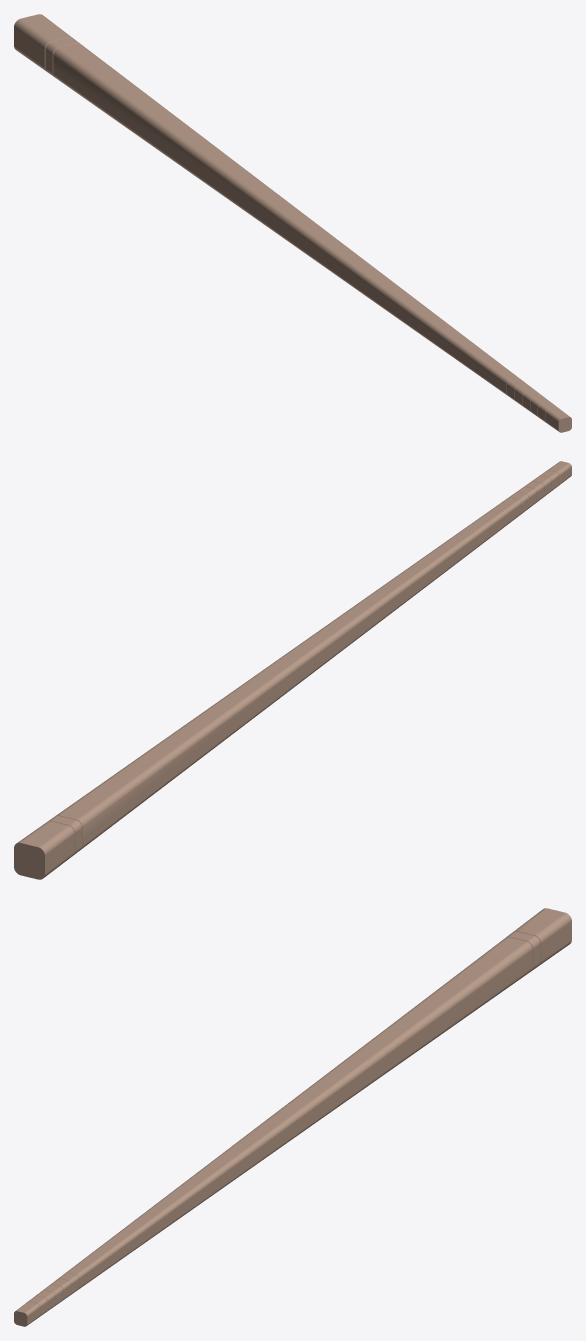
The model's file is 807_chopsticks.glb.
3 views of the same model, one above another, from view 1: azimuth 30°, elevation 25°; view 2: azimuth 150°, elevation 25°; view 3: azimuth 330°, elevation 25° (orthographic).
Parts seen in each view (by area): view 1: Body; view 2: Body; view 3: Body.
Part boxes in pixels (<box>): Body: <box>14,14,571,432</box>; Body: <box>14,461,571,879</box>; Body: <box>14,908,571,1326</box>.
Bounding box in the file's own units: 0.007 × 0.007 × 0.21.
